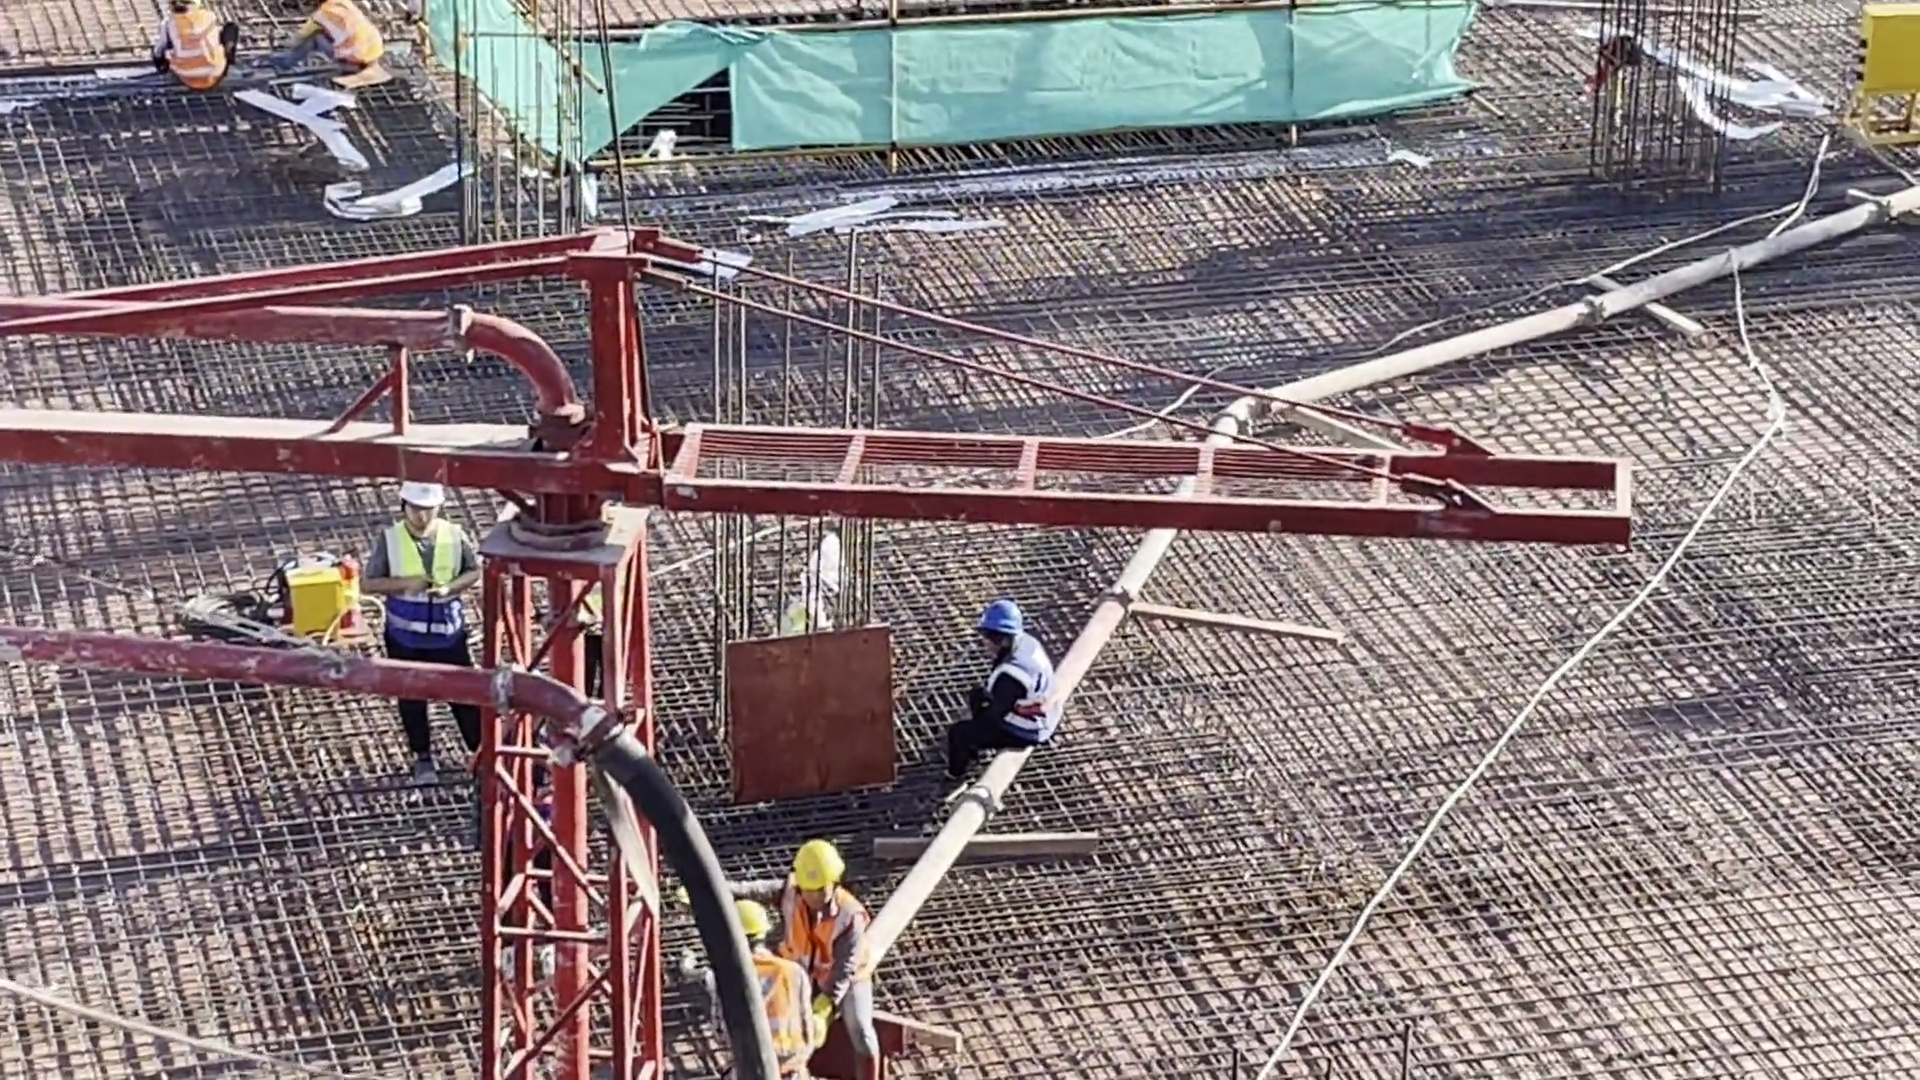ebox: (1854, 7, 1920, 101)
helmet: (715, 897, 773, 943), (790, 844, 848, 886), (392, 478, 450, 512), (980, 594, 1019, 632)
person: (371, 472, 493, 795), (774, 835, 898, 1080), (707, 883, 816, 1080), (948, 604, 1062, 790), (256, 1, 386, 75), (147, 1, 244, 91)
vest: (723, 965, 811, 1070), (389, 535, 465, 654), (782, 889, 862, 993), (990, 647, 1050, 747), (165, 6, 232, 92), (305, 2, 373, 69)
